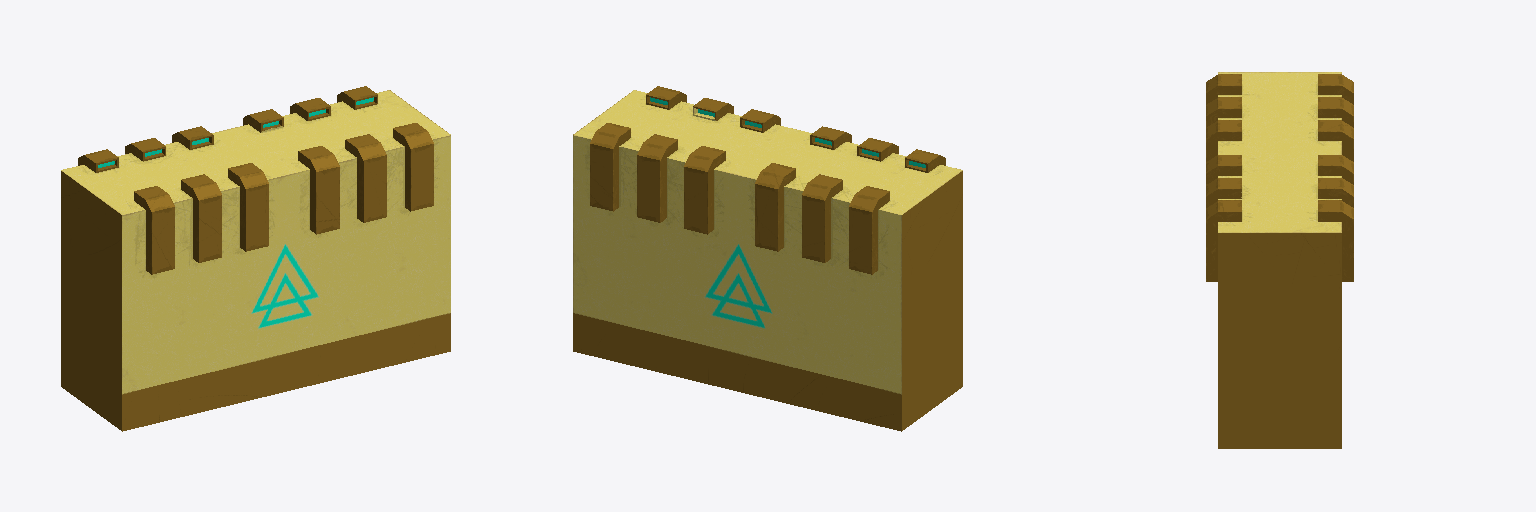
3 views of the same model, side by side, from view 1: azimuth 30°, elevation 25°; view 2: azimuth 150°, elevation 25°; view 3: azimuth 270°, elevation 25° (orthographic).
Parts seen in each view (by area): view 1: drorania_wall; view 2: drorania_wall; view 3: drorania_wall.
Part boxes in pixels (left/top/right/bottom): drorania_wall: left=61, top=86, right=450, bottom=431; drorania_wall: left=573, top=86, right=962, bottom=431; drorania_wall: left=1206, top=72, right=1353, bottom=448.
Size of the model in its own units: 320 by 210 by 124.
Materials: 1 (1 with a texture image).